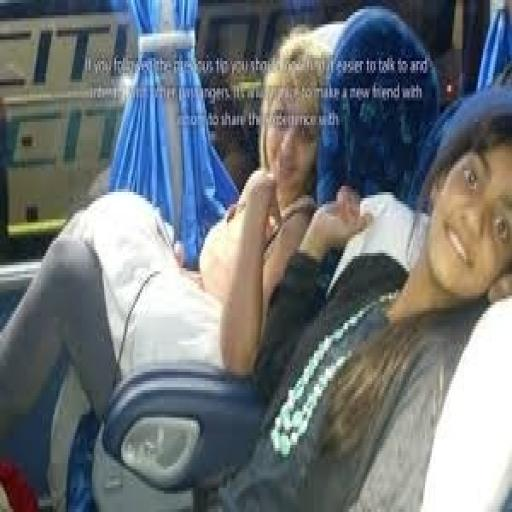sitting: (2, 9, 508, 506)
